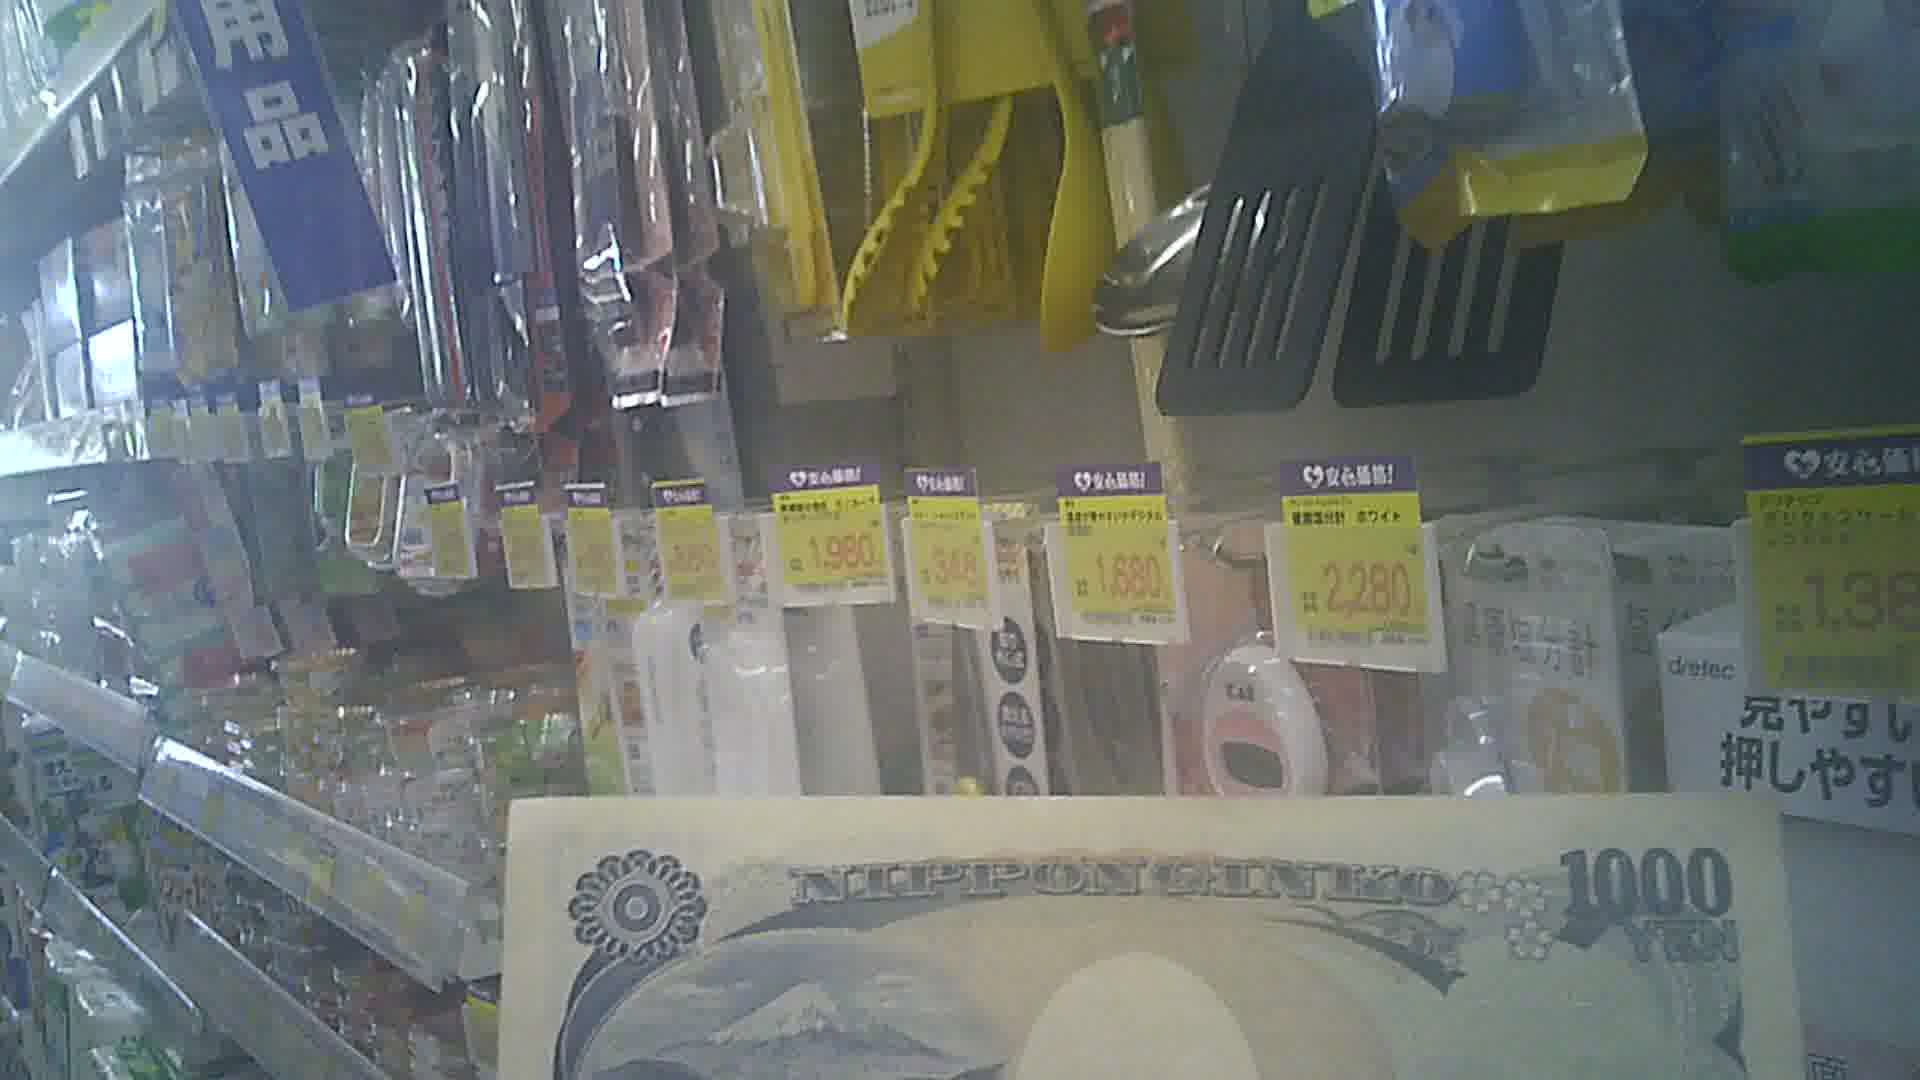1,000 Yen: (496, 777, 1803, 1054)
